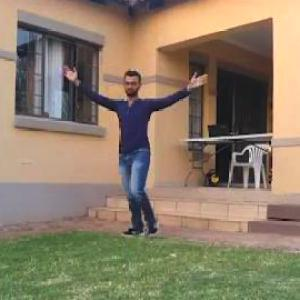takeoff: (61, 58, 210, 244)
